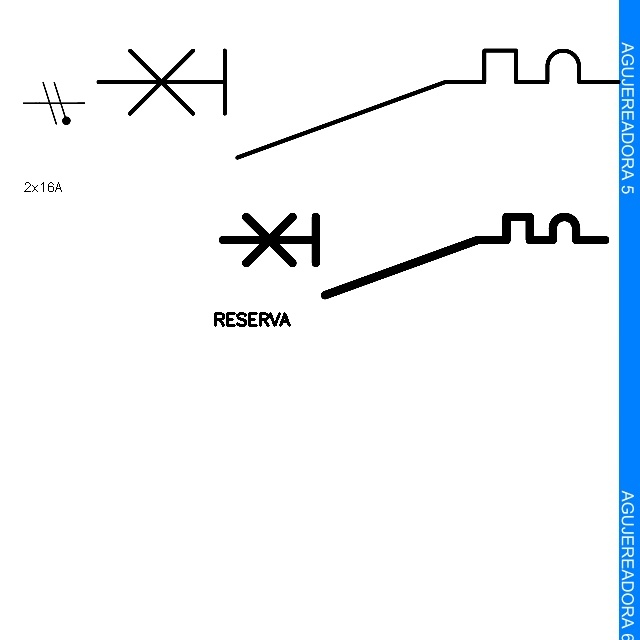interruptor_termomagnetico: (84, 37, 631, 171), (213, 207, 615, 305)
